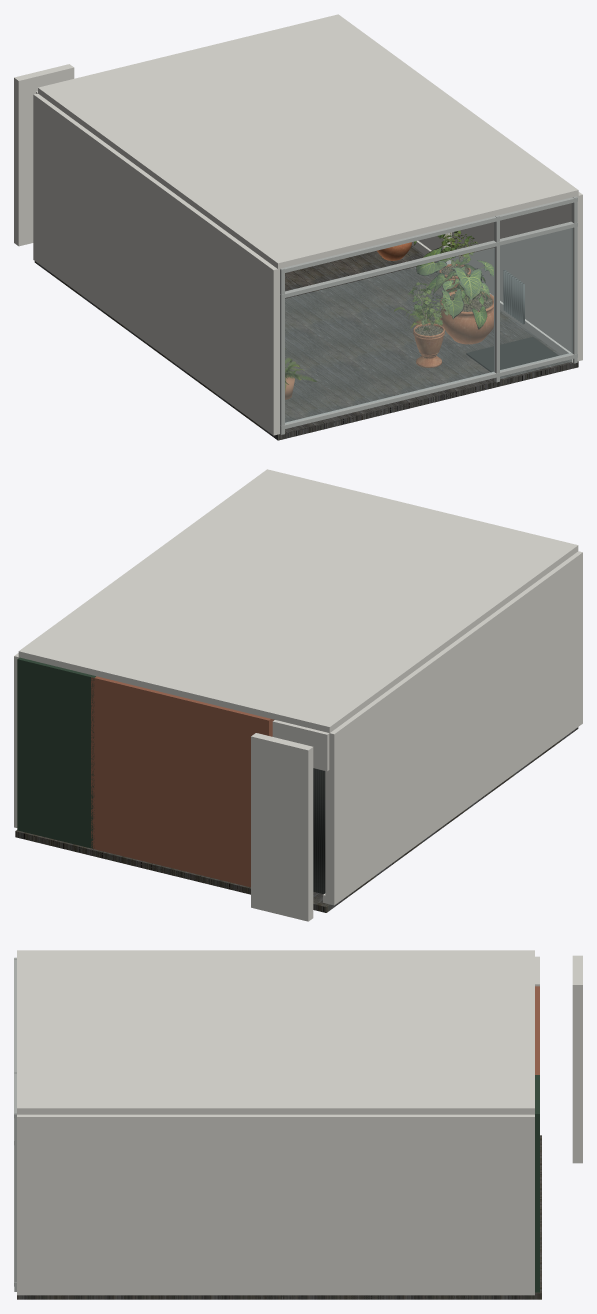
Rendered from jungle.glb.
3 views of the same model, one above another, from view 1: azimuth 30°, elevation 25°; view 2: azimuth 150°, elevation 25°; view 3: azimuth 270°, elevation 25° (orthographic). The views are drawn at different scales.
Parts seen in each view (by area): view 1: Enduit blanc chaud, Vitrage, Lames de sol gris chaud, Poignees et cadres, potted_plant_02_leaves.001, potted_plant_02_pot.001, Noir, potted_plant_01_pot.001, potted_plant_01_leaves.001, Radiateurs anthracite, fern_02; view 2: Enduit blanc chaud, Terracotta, Vert profond, Lames de sol gris chaud, Noir; view 3: Enduit blanc chaud, Lames de sol gris chaud, Vert profond, Poignees et cadres.
Part boxes in pixels (bbox=[...]): Enduit blanc chaud: bbox=[14, 14, 582, 435]; Vitrage: bbox=[285, 228, 572, 423]; Lames de sol gris chaud: bbox=[34, 245, 578, 440]; Poignees et cadres: bbox=[280, 196, 577, 434]; potted_plant_02_leaves.001: bbox=[414, 241, 493, 329]; potted_plant_02_pot.001: bbox=[377, 242, 493, 344]; Noir: bbox=[466, 337, 558, 372]; potted_plant_01_pot.001: bbox=[413, 233, 470, 367]; potted_plant_01_leaves.001: bbox=[408, 230, 477, 330]; Radiateurs anthracite: bbox=[503, 270, 524, 324]; fern_02: bbox=[285, 304, 441, 390]; Enduit blanc chaud: bbox=[14, 469, 582, 921]; Terracotta: bbox=[91, 676, 273, 887]; Vert profond: bbox=[17, 657, 95, 848]; Lames de sol gris chaud: bbox=[15, 719, 578, 912]; Noir: bbox=[313, 768, 325, 893]; Enduit blanc chaud: bbox=[17, 950, 582, 1295]; Lames de sol gris chaud: bbox=[17, 1135, 541, 1299]; Vert profond: bbox=[535, 1075, 539, 1292]; Poignees et cadres: bbox=[14, 957, 16, 1291].
Size of the model in its own units: 5.58 by 3.05 by 8.24.
Materials: 23 (12 with a texture image).
